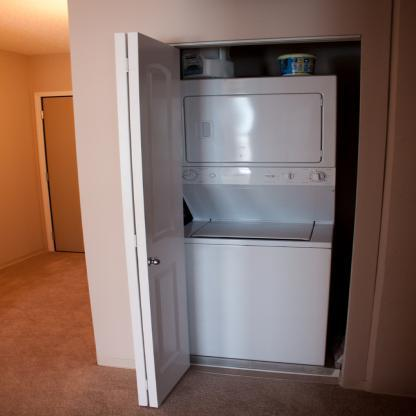door: (131, 32, 188, 408), (48, 92, 82, 252)
hinged: (124, 56, 132, 74), (44, 172, 52, 184), (133, 235, 139, 249), (145, 379, 151, 391), (40, 110, 46, 121), (52, 232, 58, 242)
knob: (145, 256, 162, 269)
